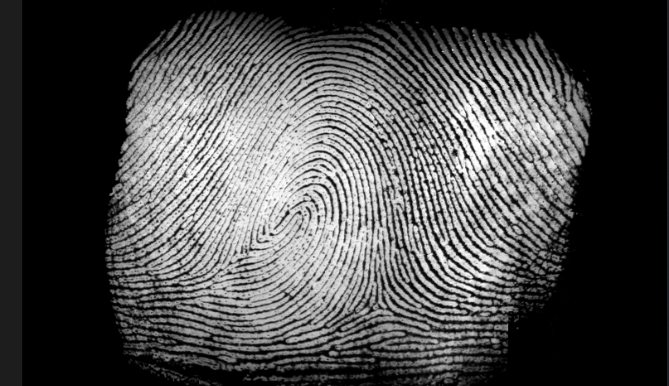deltas: (355, 275, 404, 331)
nucleo: (253, 193, 311, 243)
